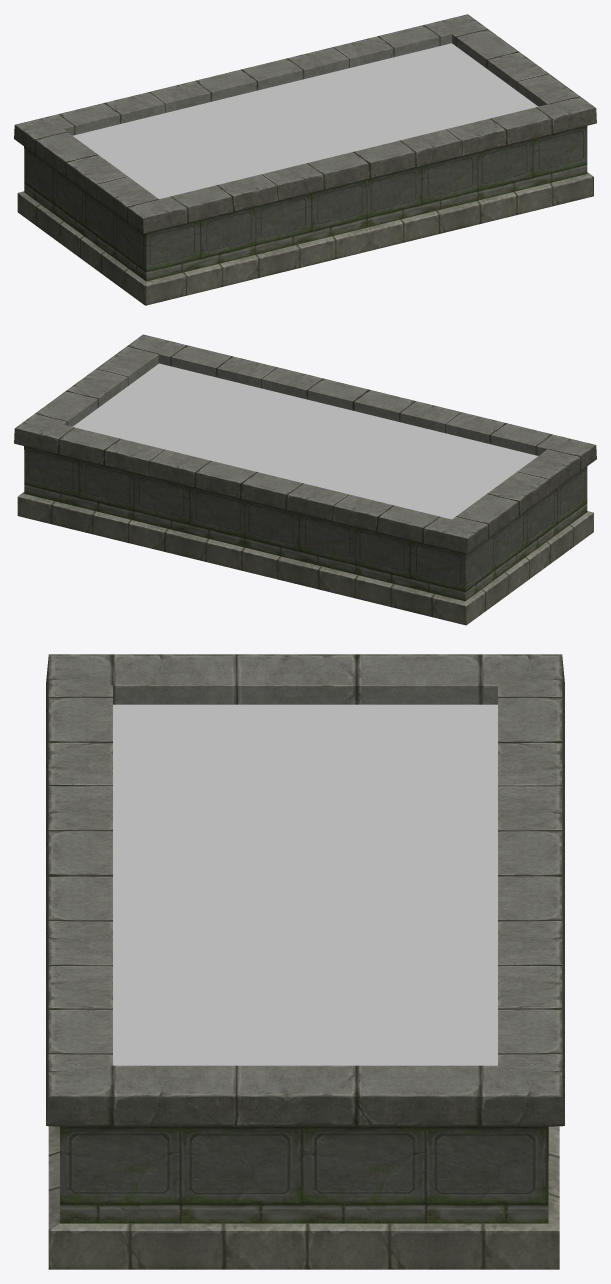
The model's file is JiaYeSi_HuaTan_1.FBX.
The picture shows the model from 3 angles, top to bottom: view 1: azimuth 30°, elevation 25°; view 2: azimuth 150°, elevation 25°; view 3: azimuth 270°, elevation 25°; orthographic projection. The views are drawn at different scales.
Visible parts, largest first — view 1: JiaYeSi_HuaTan_1a, JiaYeSi_HuaTan_1b; view 2: JiaYeSi_HuaTan_1a, JiaYeSi_HuaTan_1b; view 3: JiaYeSi_HuaTan_1a, JiaYeSi_HuaTan_1b.
Boxes of the visible parts, x1,y1,x2,y2 form: JiaYeSi_HuaTan_1a: (14, 14, 596, 305); JiaYeSi_HuaTan_1b: (73, 43, 537, 198); JiaYeSi_HuaTan_1a: (14, 334, 596, 625); JiaYeSi_HuaTan_1b: (73, 363, 537, 519); JiaYeSi_HuaTan_1a: (46, 654, 564, 1269); JiaYeSi_HuaTan_1b: (113, 704, 497, 1065).
Size of the model in its own units: 1301 by 240 by 645.
